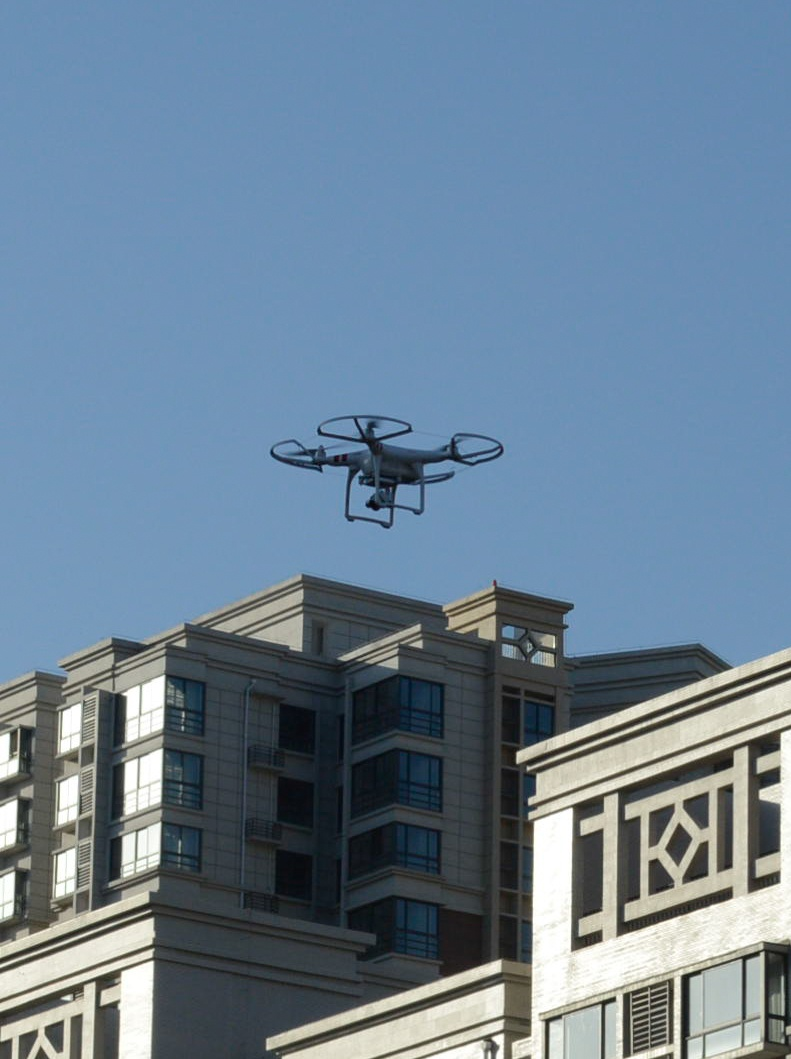DJI: (268, 407, 509, 534)
